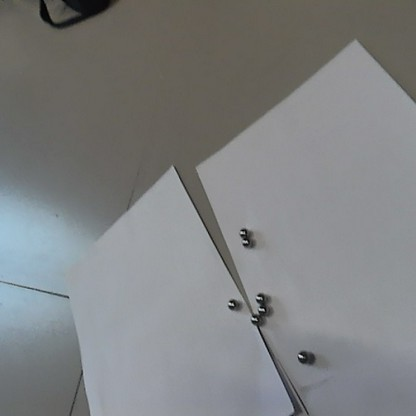ironball: (297, 350, 307, 362), (254, 292, 264, 302), (226, 297, 235, 308), (238, 228, 248, 237), (239, 238, 249, 247), (256, 304, 266, 313), (248, 313, 257, 322)
